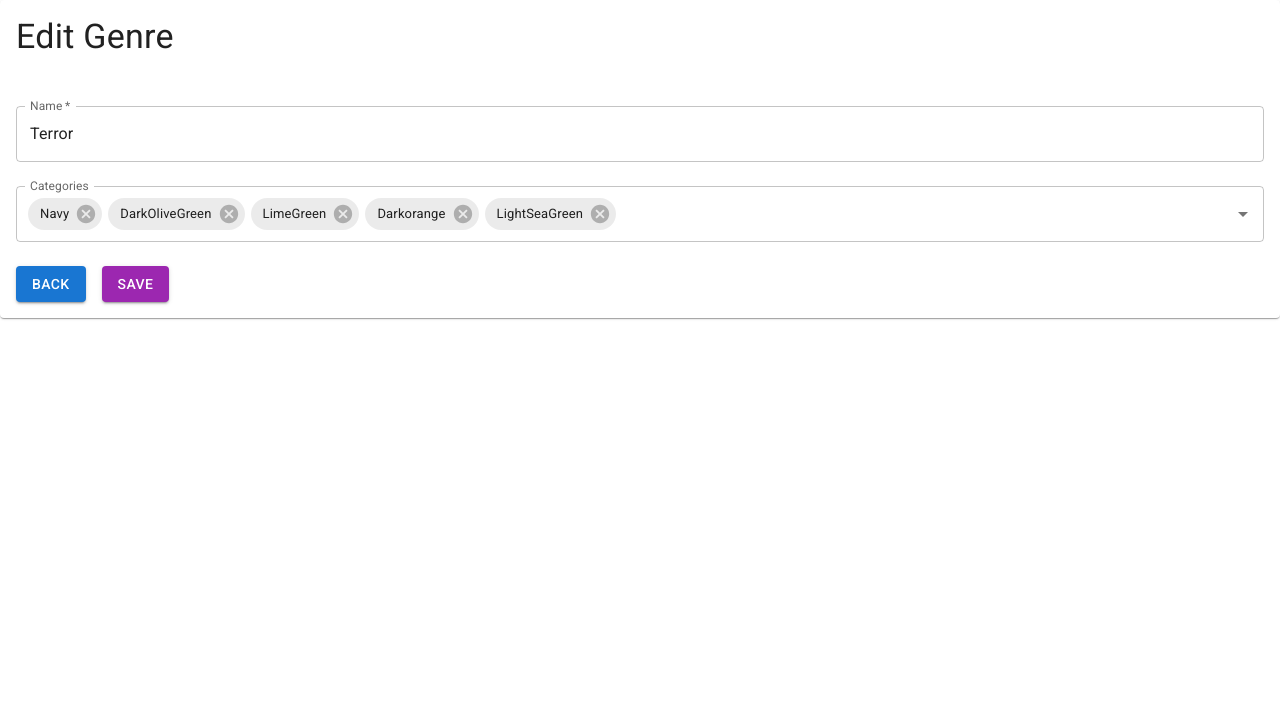
Test: GenreEdit › should handle submit
Replace the text in the field with test id "name" with "Comedy" at (640, 134), box left=16, top=106, right=1264, bottom=162
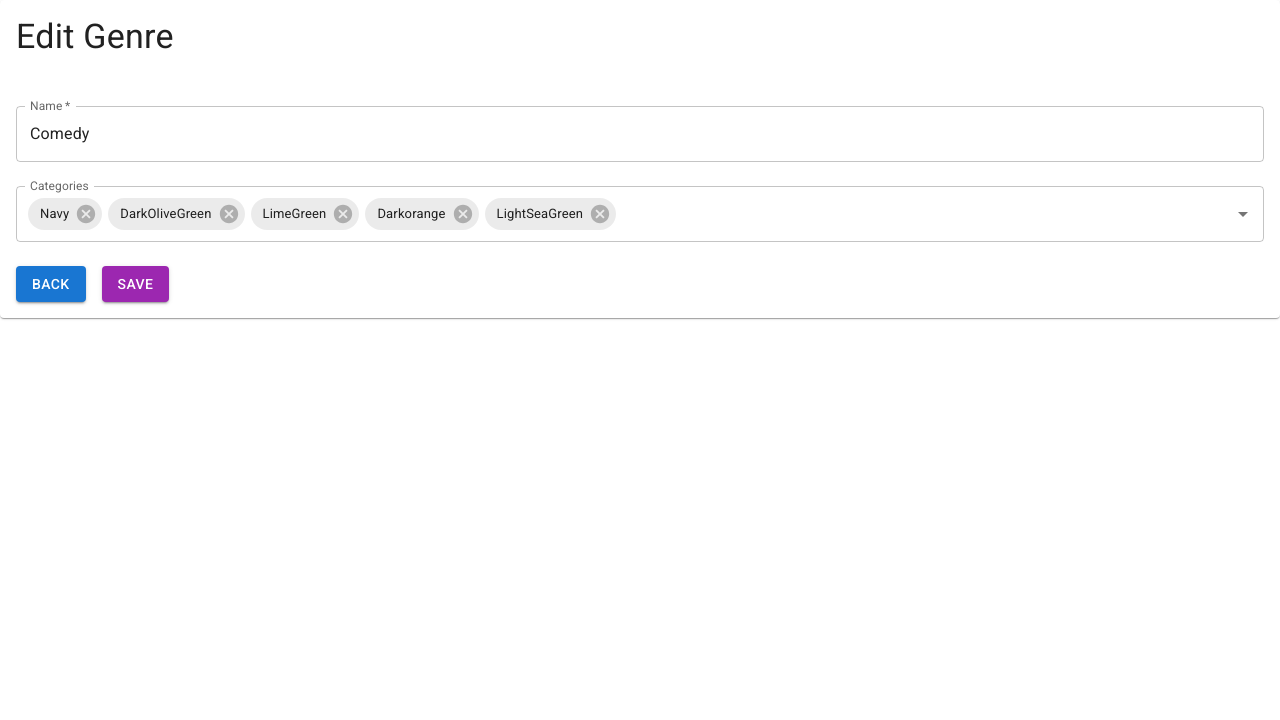
Click the button "Save" at (136, 284), box left=102, top=266, right=169, bottom=302
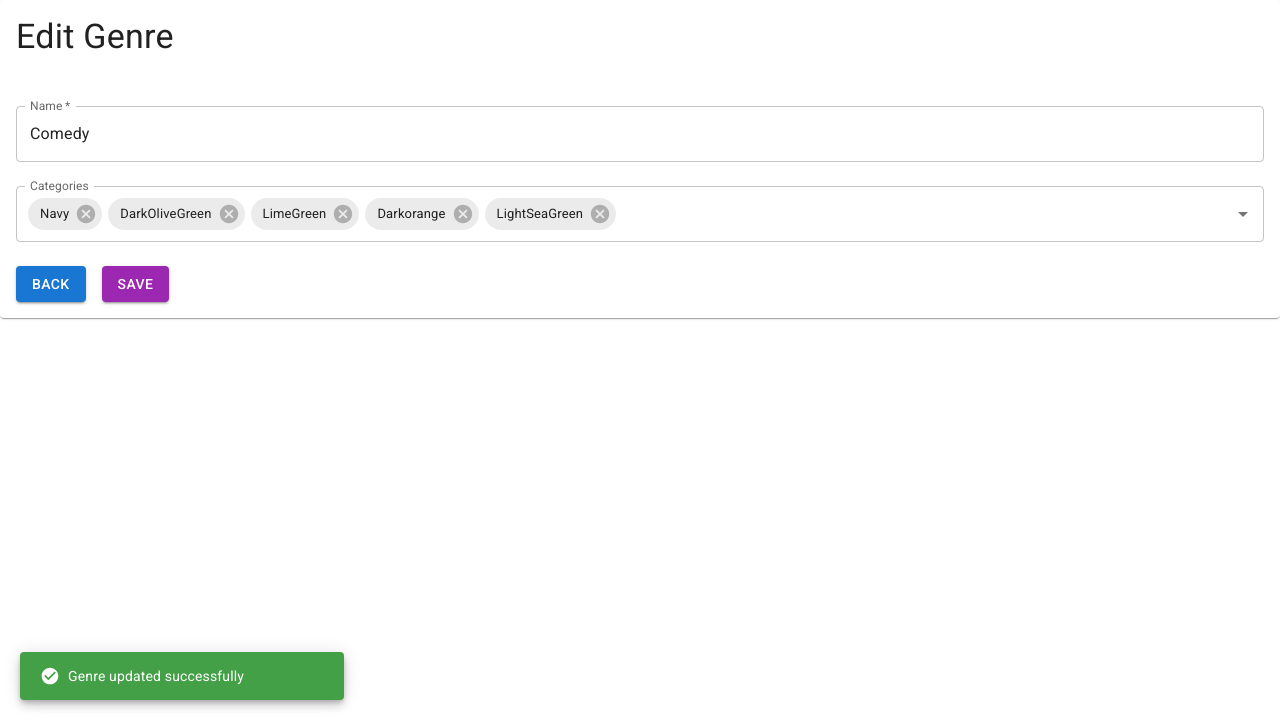
Expected: the text "Genre updated successfully" is shown, left=40, top=666, right=244, bottom=686
